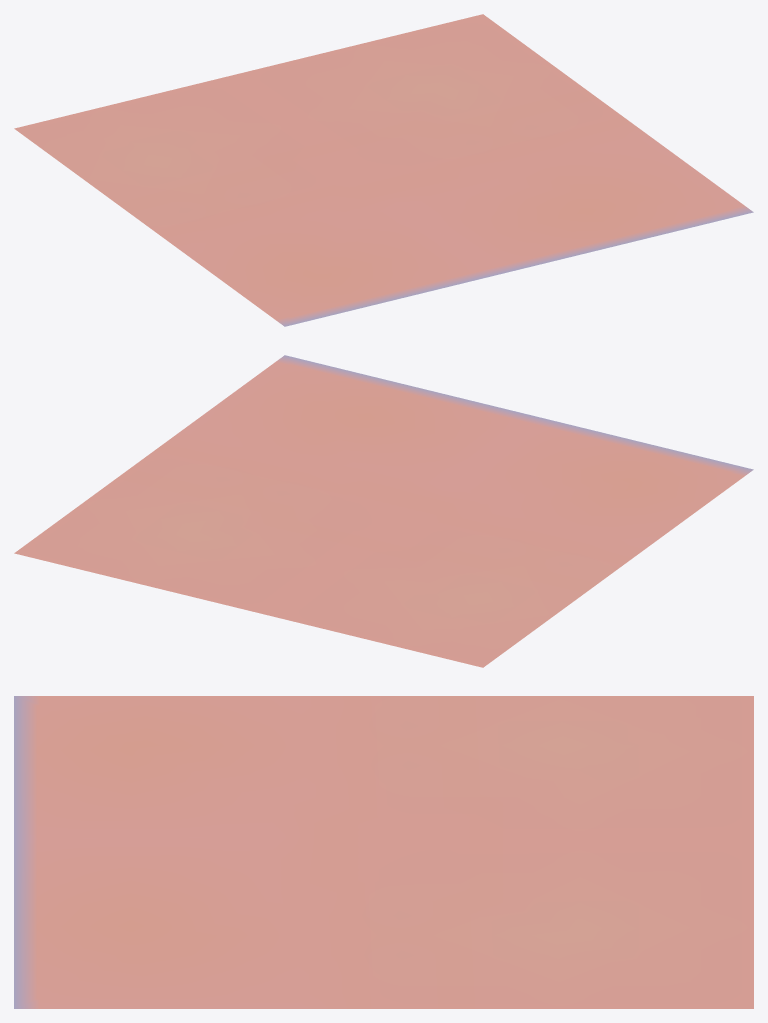
The model's file is Floor #904030.fbx.
3 renders of one model, top to bottom at view 1: azimuth 30°, elevation 25°; view 2: azimuth 150°, elevation 25°; view 3: azimuth 270°, elevation 25°, orthographic. The views are drawn at different scales.
Parts seen in each view (by area): view 1: Floor; view 2: Floor; view 3: Floor.
Boxes of the visible parts, x1=… form: Floor: x1=14, y1=14, x2=753, y2=326; Floor: x1=14, y1=355, x2=753, y2=667; Floor: x1=14, y1=696, x2=753, y2=1008.
Bounding box in the file's own units: 2200 × 9.62e-05 × 2200.
